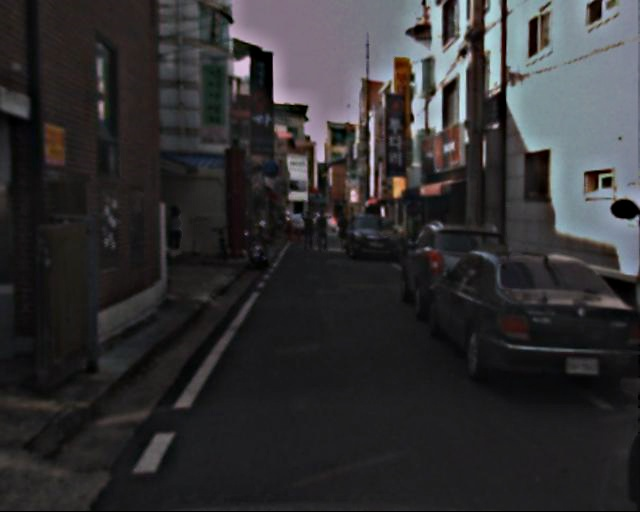person: (165, 204, 188, 260), (298, 208, 316, 252), (315, 213, 332, 254), (336, 214, 352, 253)
